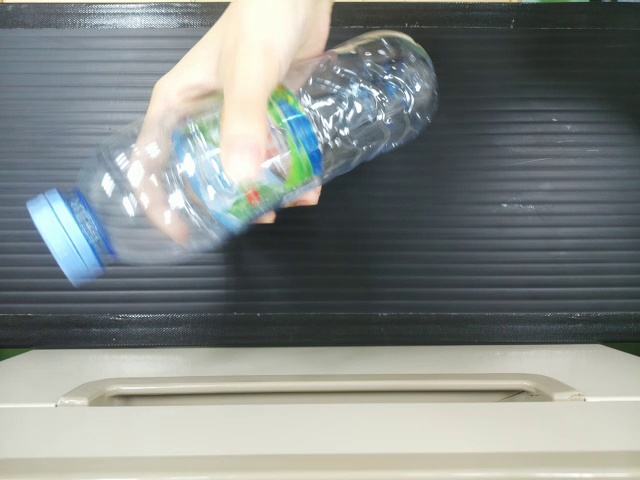bottle: (13, 38, 444, 283)
